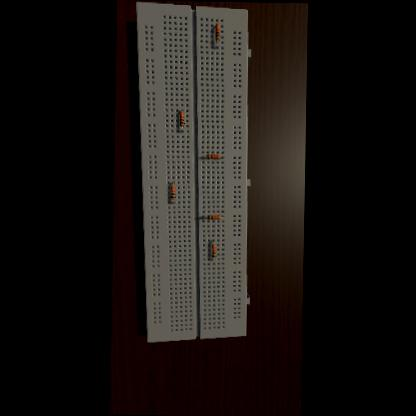breadboard: (129, 0, 254, 342)
resistor: (214, 22, 220, 40), (178, 110, 183, 126), (170, 184, 175, 198), (206, 214, 220, 219), (212, 243, 216, 257), (205, 153, 219, 157)
wire: (216, 38, 217, 48), (202, 214, 206, 216), (172, 198, 174, 201), (181, 125, 182, 130), (202, 155, 204, 157), (212, 238, 213, 242), (212, 257, 214, 259), (220, 155, 222, 157), (220, 214, 222, 216), (172, 182, 173, 184), (180, 108, 181, 109)
